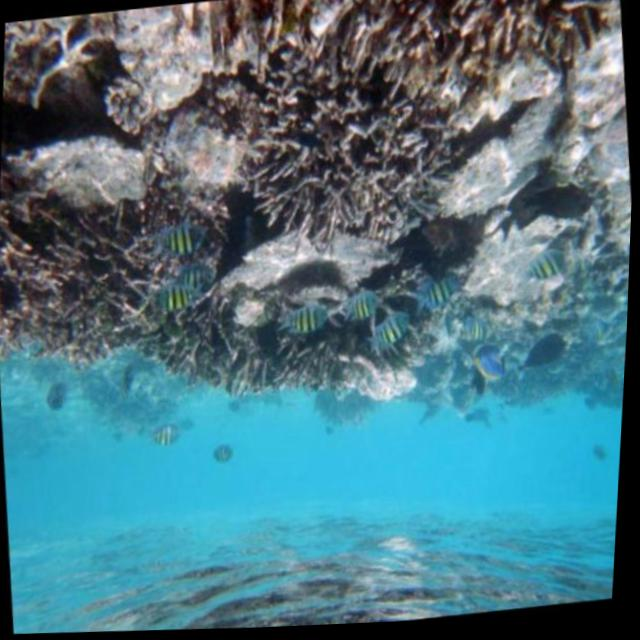Dead Coral: (226, 49, 455, 271), (0, 191, 155, 368), (378, 0, 619, 109), (142, 299, 347, 423)
